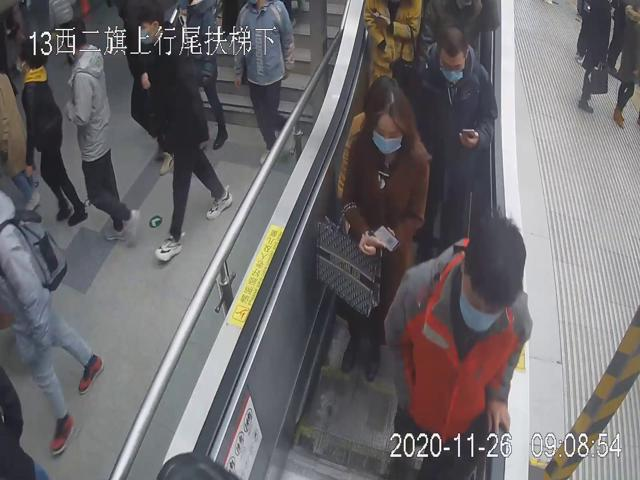person: (382, 209, 535, 480), (313, 78, 429, 383), (132, 0, 234, 265), (411, 24, 499, 261), (57, 16, 143, 250)
